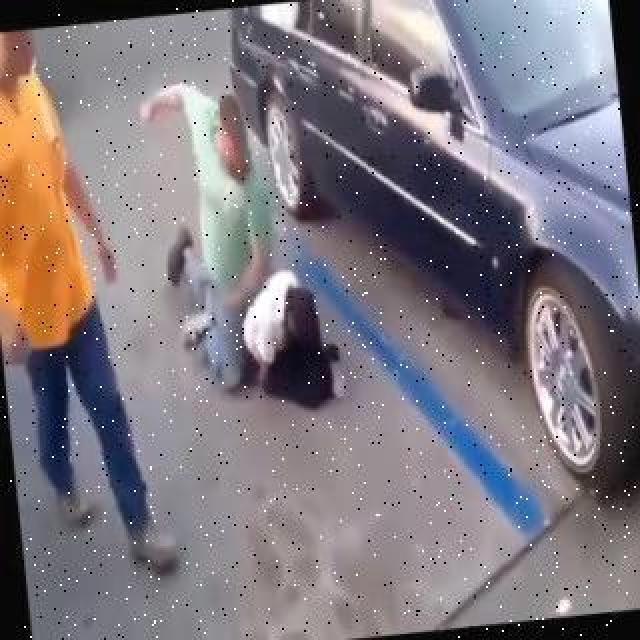fight: (0, 29, 170, 627), (132, 77, 370, 435)
